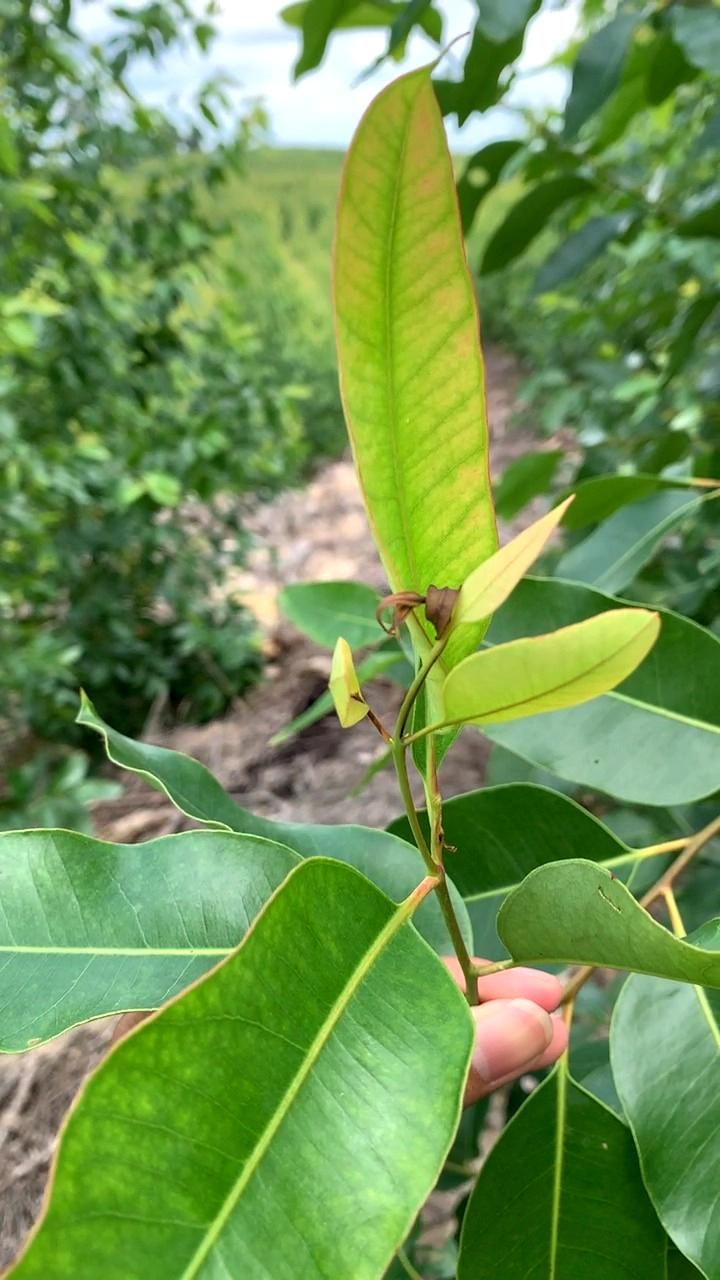Helopeltis-Withered Sprout: (376, 570, 467, 659)
